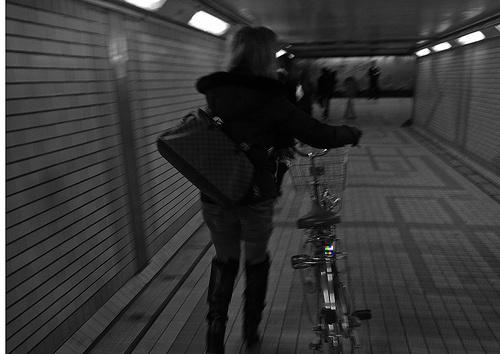car: (284, 147, 374, 353)
person: (195, 25, 366, 354)
